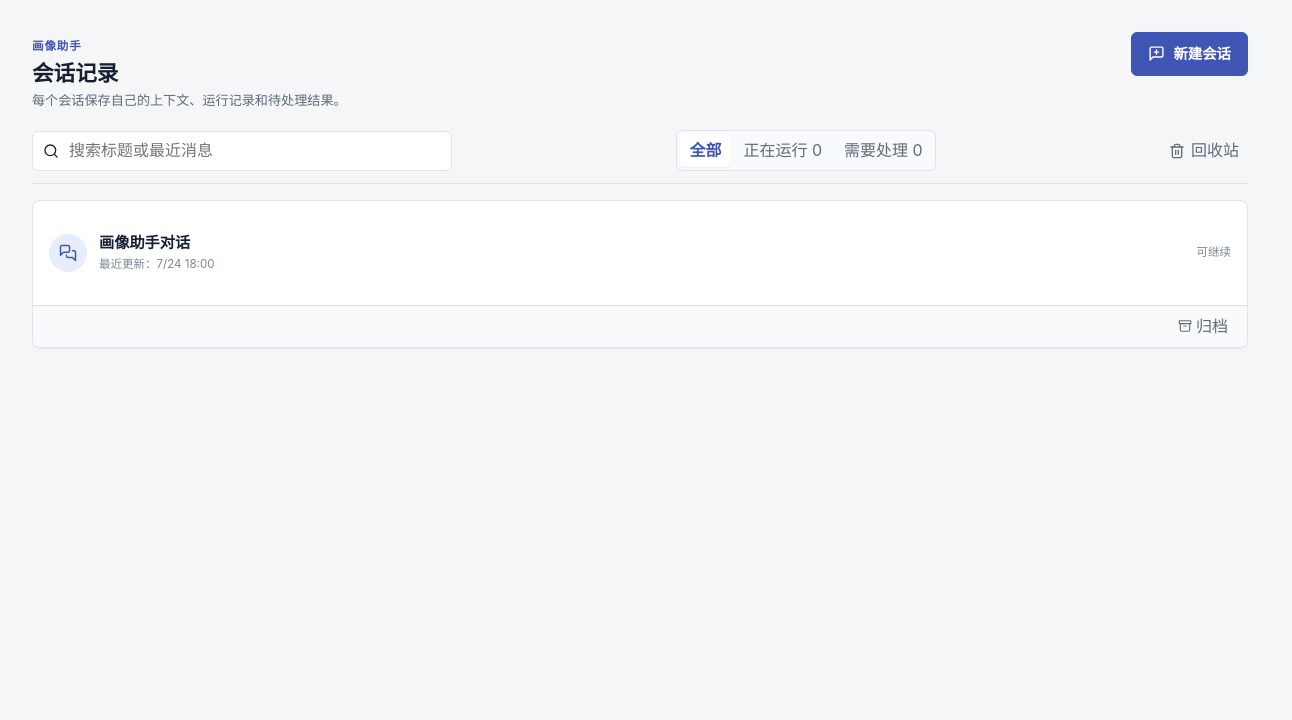
Test case: ProfileAgentWorkspace › opens a selected conversation and lets durable terminal state beat stale SSE
The width and height of the screenshot is (1292, 720).
Click the button "画像助手对话 最近更新：7/24 18:00 可继续" at (68, 253), box [33,201,1247,305]
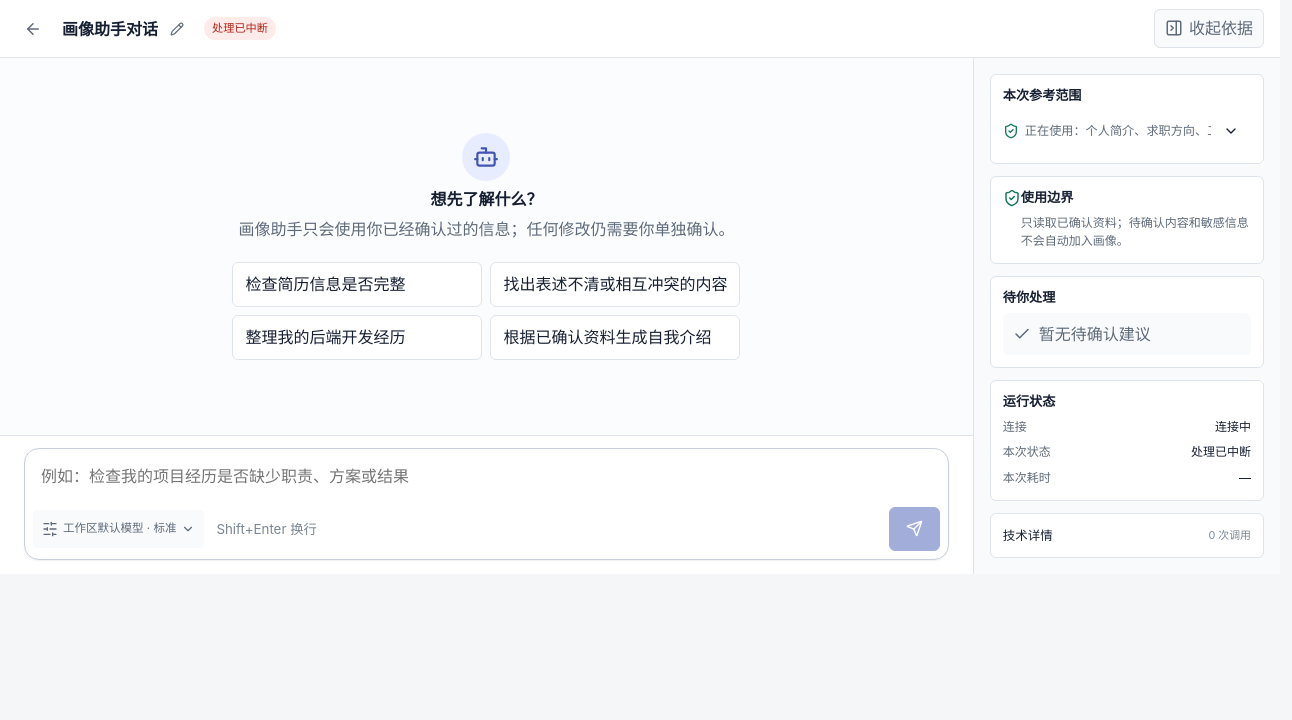
Expected: the text box with placeholder "例如：检查我的项目经历是否缺少职责、方案或结果" is enabled, [25,449,948,501]
Expected: the text "处理已中断" is shown 2 times, [204,17,276,40]; [1191,443,1251,462]
Expected: the button named "返回会话记录" is enabled, [16,12,50,46]
